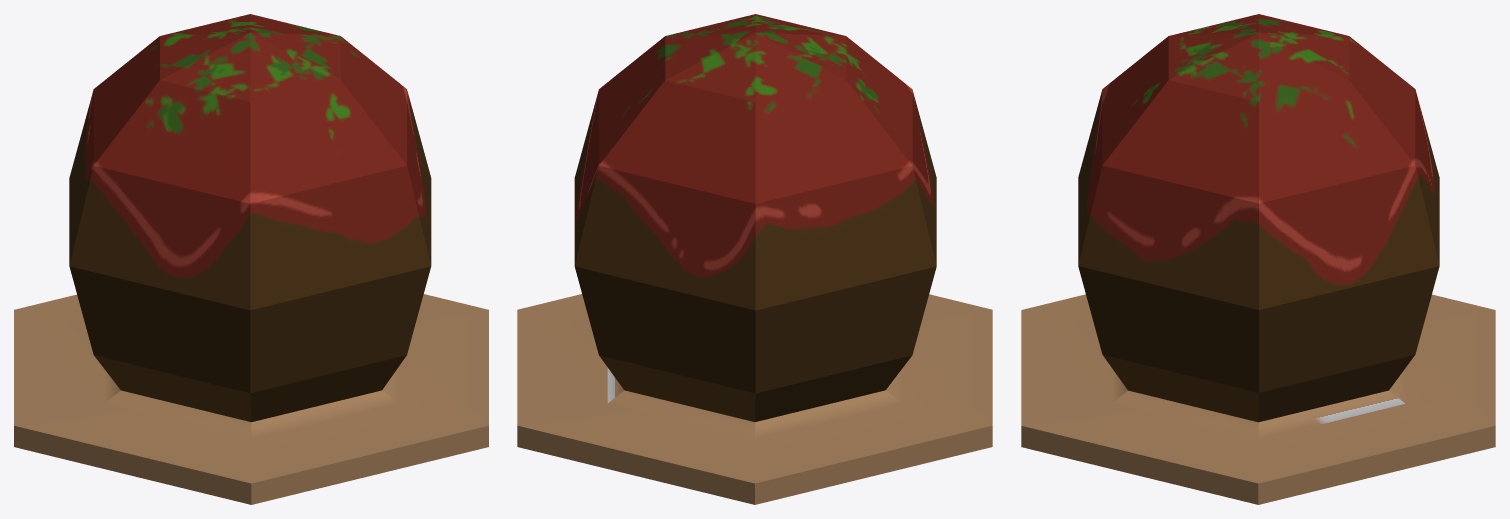
The model's file is meatball hat.fbx.
3 renders of one model, left to right at view 1: azimuth 30°, elevation 25°; view 2: azimuth 150°, elevation 25°; view 3: azimuth 270°, elevation 25°, orthographic.
Visible parts, largest first — view 1: polySurface646; view 2: polySurface646; view 3: polySurface646.
Part boxes in pixels (left/top/right/bottom): polySurface646: left=14, top=14, right=488, bottom=504; polySurface646: left=517, top=14, right=992, bottom=504; polySurface646: left=1021, top=14, right=1495, bottom=504.
Bounding box in the file's own units: 218 × 156 × 188.
2 materials, 2 textured.
